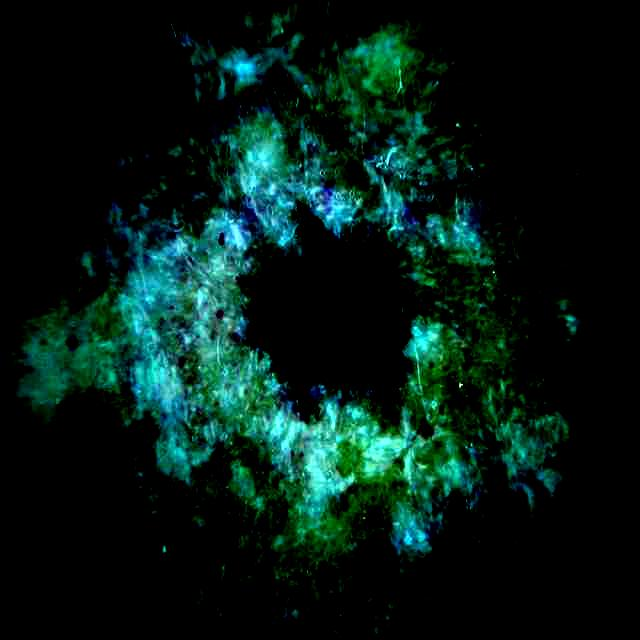BKL: (252, 203, 406, 415)
